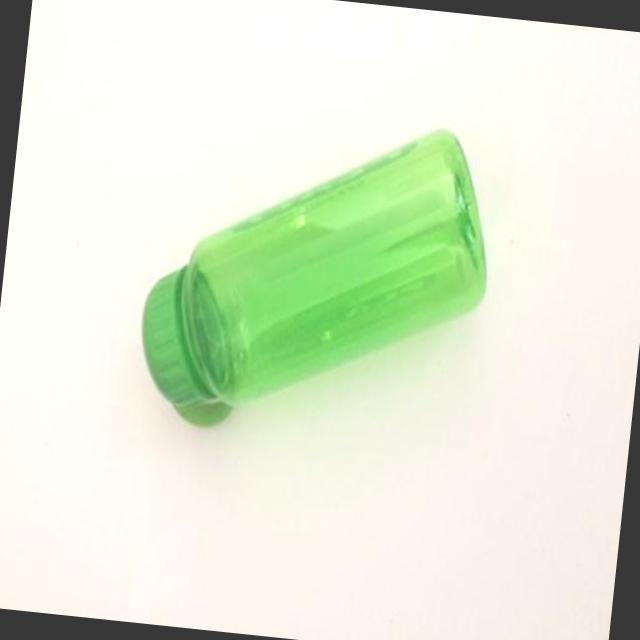Recycle: (134, 95, 505, 458)
